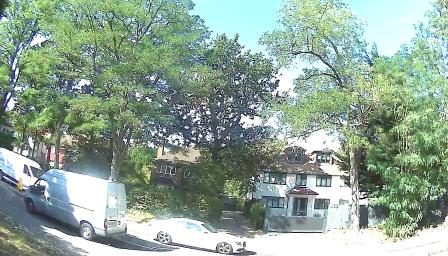Cars: (29, 162, 124, 242), (149, 214, 250, 254), (1, 146, 46, 189)
